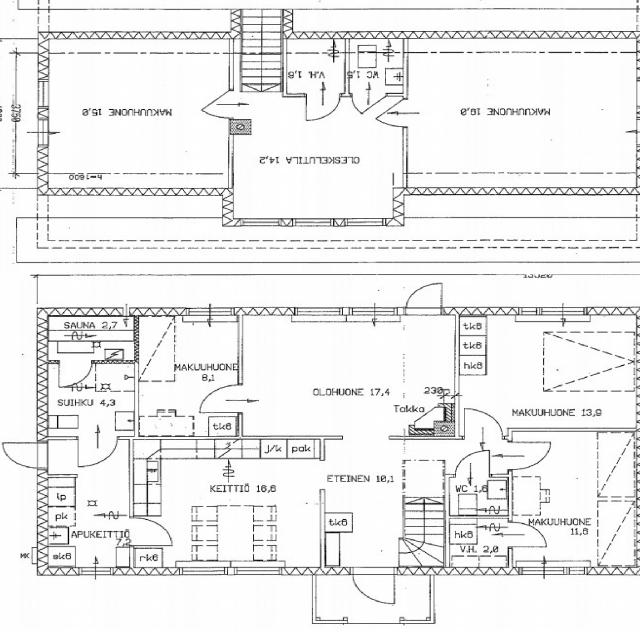door: (353, 568, 394, 604), (78, 436, 117, 468), (464, 408, 503, 439), (200, 385, 242, 413), (191, 90, 233, 118), (507, 442, 550, 469), (406, 282, 441, 315), (1, 443, 47, 468), (366, 99, 407, 127), (130, 518, 172, 545), (455, 450, 490, 478), (507, 522, 545, 547), (58, 360, 92, 387), (306, 94, 339, 121)
